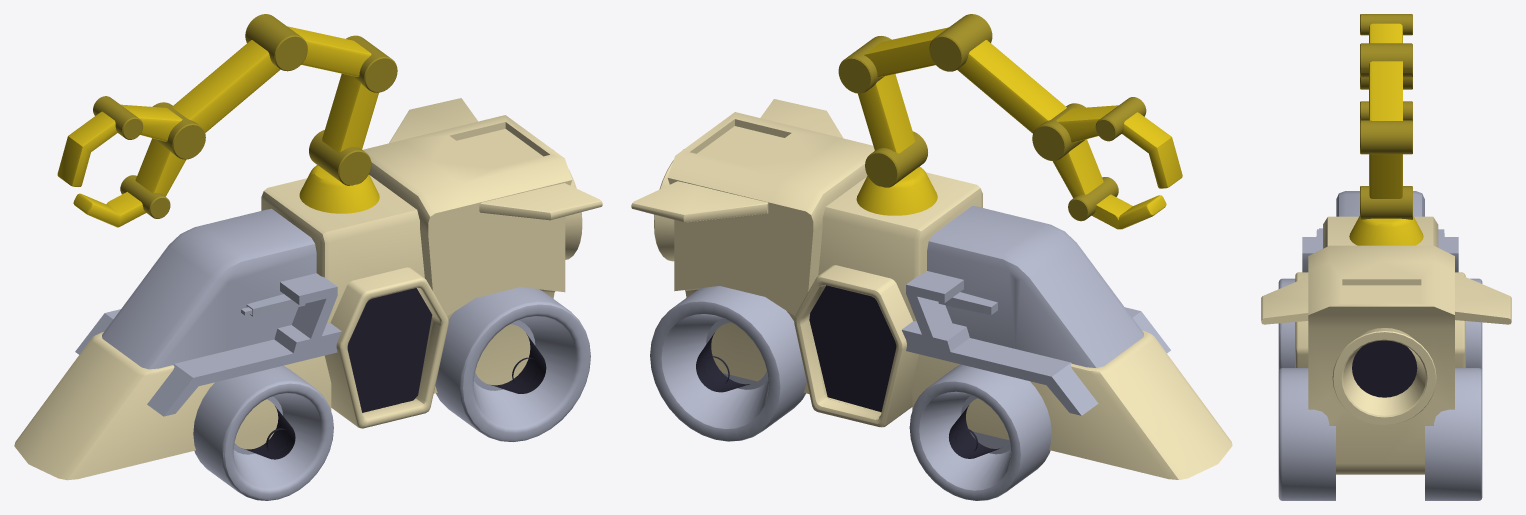
Rendered from Jayce.glb.
3 renders of one model, left to right at view 1: azimuth 30°, elevation 25°; view 2: azimuth 150°, elevation 25°; view 3: azimuth 270°, elevation 25°, orthographic. The views are drawn at different scales.
Visible parts, largest first — view 1: JayceVehicle; view 2: JayceVehicle; view 3: JayceVehicle.
Boxes of the visible parts, <box> form: JayceVehicle: <box>14,14,602,500</box>; JayceVehicle: <box>631,14,1232,500</box>; JayceVehicle: <box>1261,14,1511,500</box>.
Bounding box in the file's own units: 2.88 × 2.18 × 1.34.
